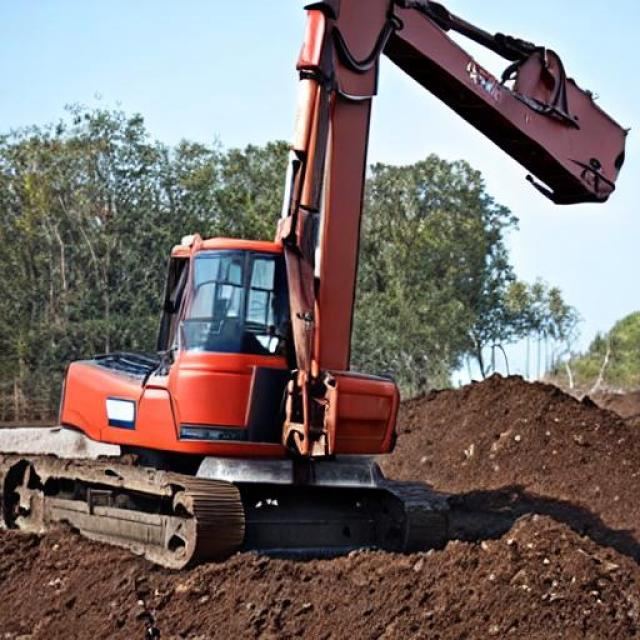excavator: (228, 82, 478, 550)
